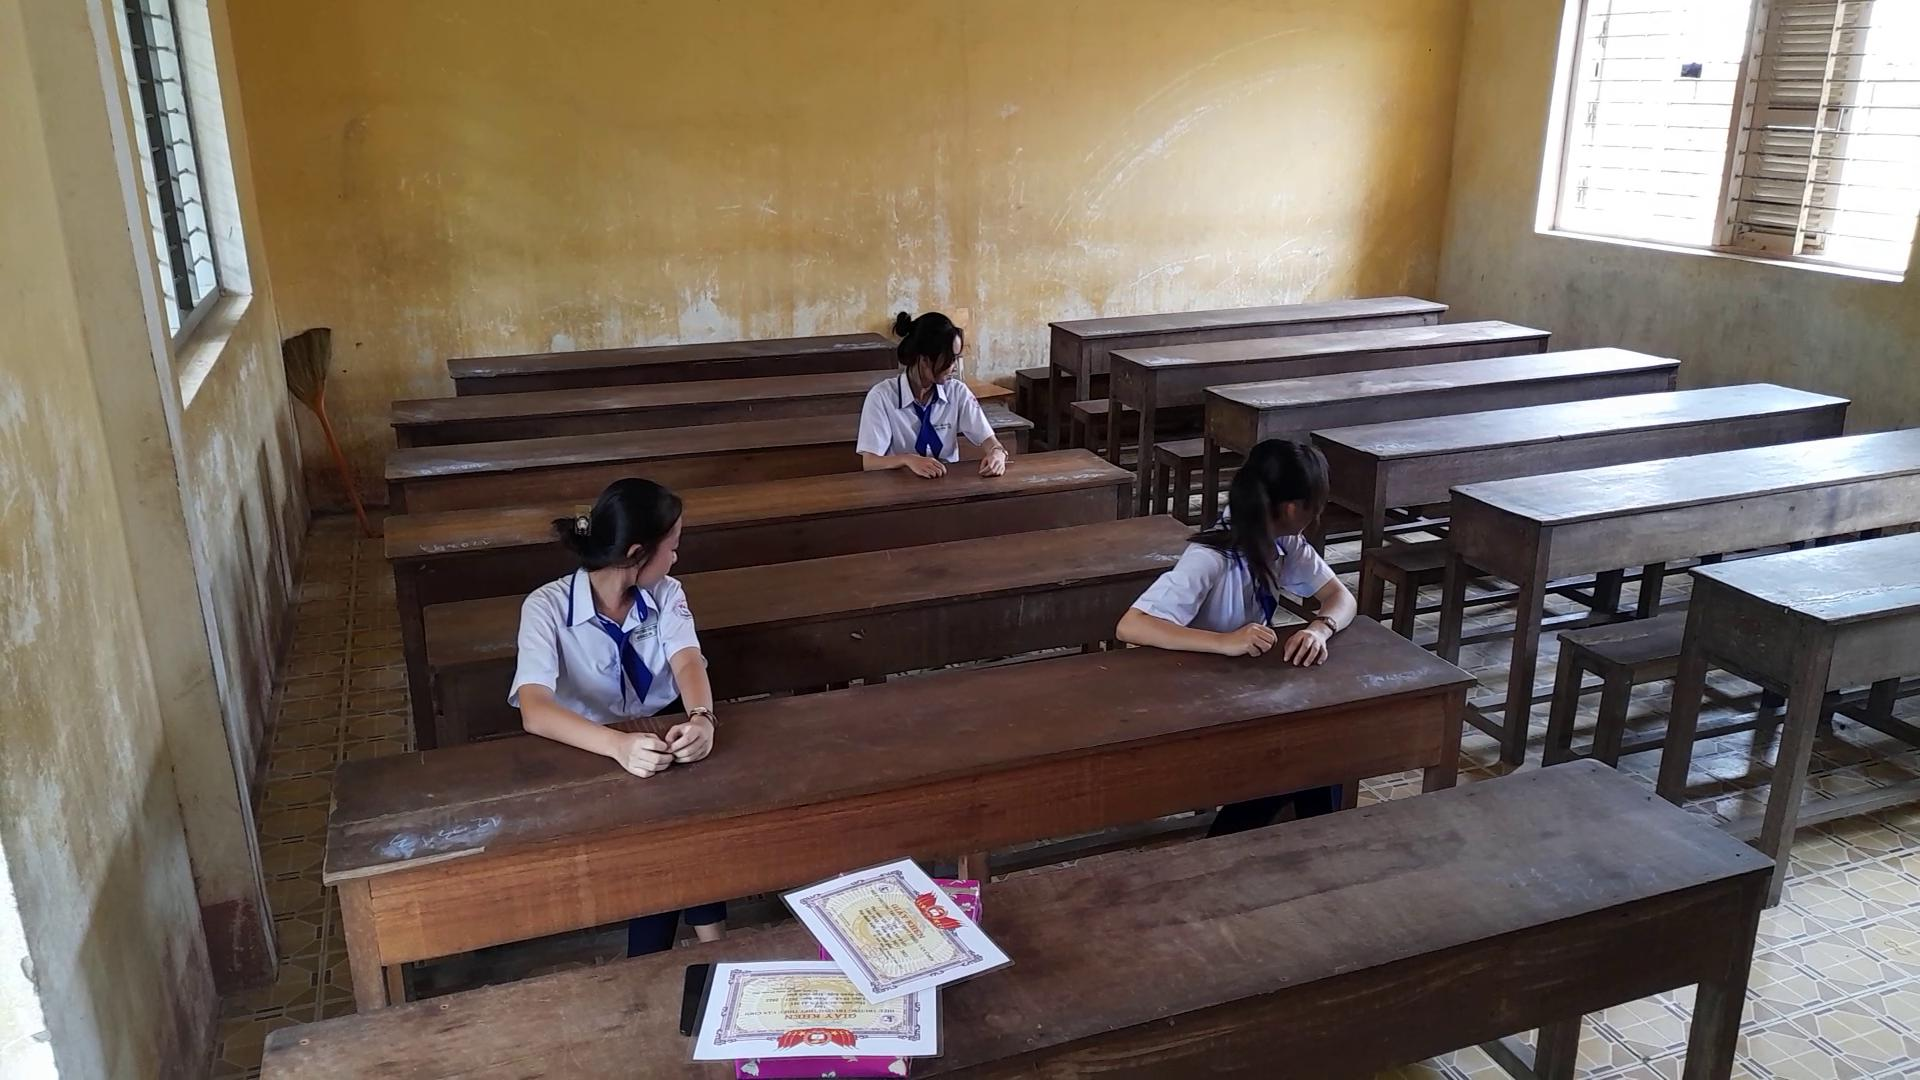Look Around: (1189, 415, 1342, 560), (550, 467, 702, 611), (887, 295, 980, 404)
